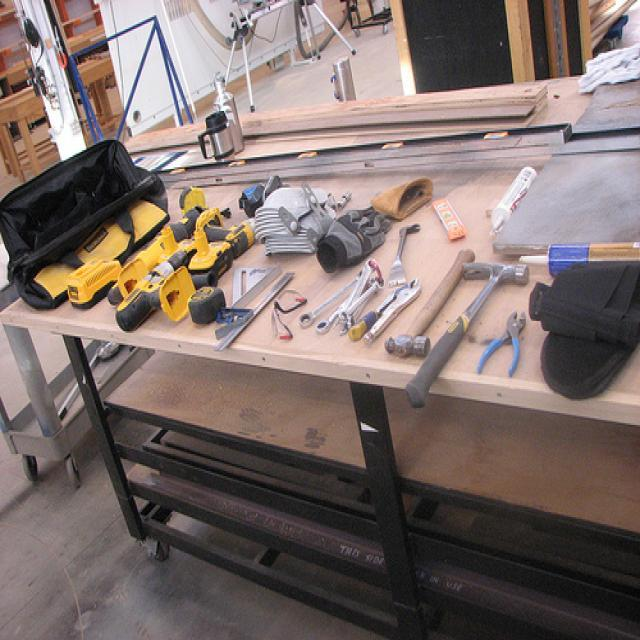hammer: (374, 240, 482, 361), (437, 252, 534, 336)
pliers: (474, 304, 536, 404)
wrench: (292, 254, 366, 344)
